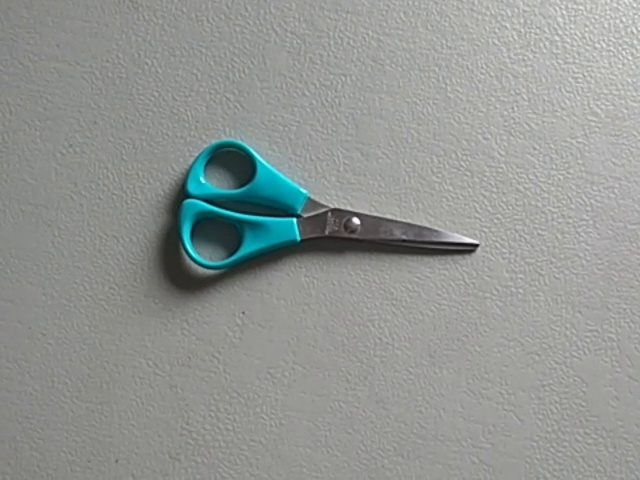Sizer: (171, 126, 483, 291)
